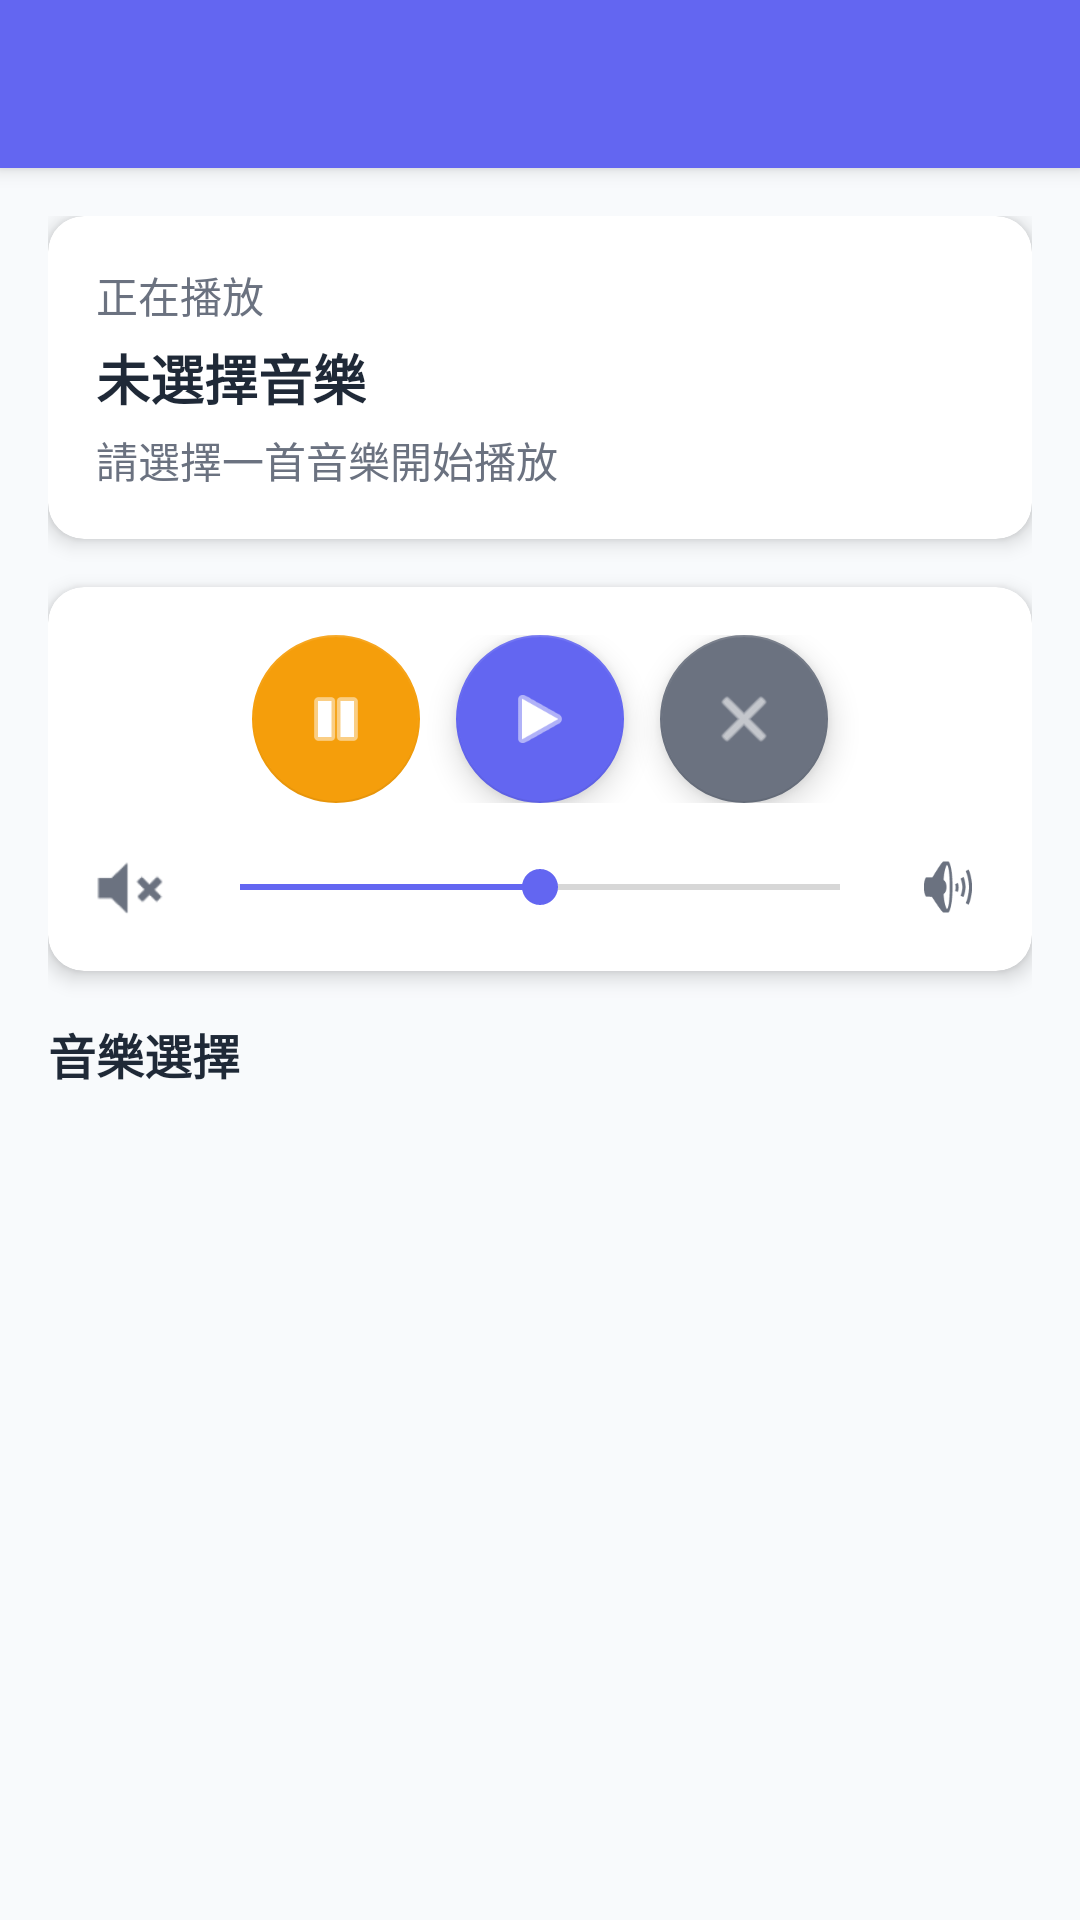

Icon bounding boxes for this 1080w x 1920h phone screenshot, format (x1, y1, x2, y2):
lock silent mode: (97, 863, 162, 913)
lock silent mode off: (924, 861, 972, 913)
停止: (660, 635, 828, 803)
暫停: (252, 635, 420, 803)
